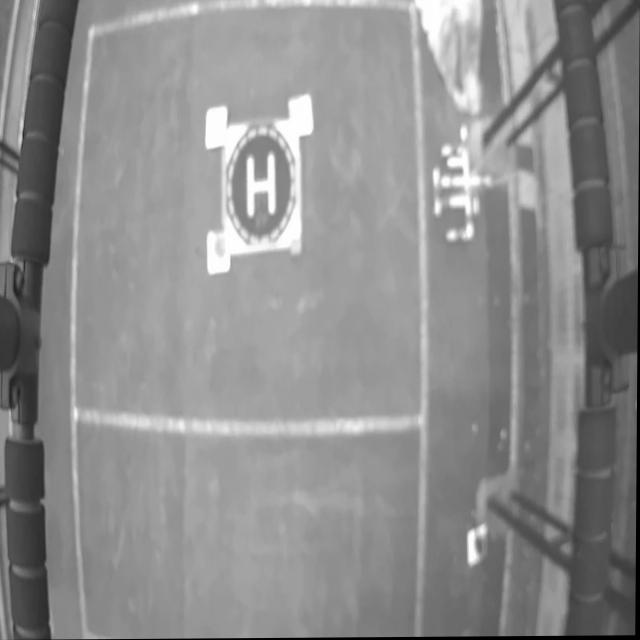Helipad: (247, 152, 276, 219)
